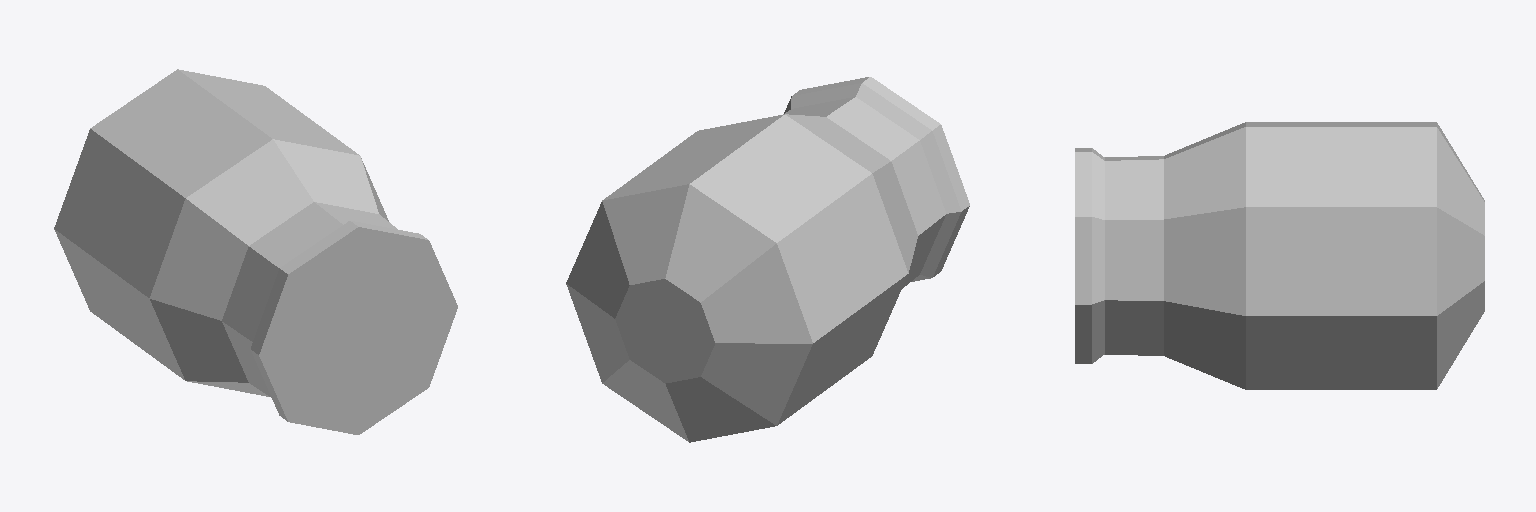
Rendered from m_bottle.obj.
The picture shows the model from 3 angles: view 1: azimuth 30°, elevation 25°; view 2: azimuth 150°, elevation 25°; view 3: azimuth 270°, elevation 25°; orthographic projection.
Parts seen in each view (by area): view 1: Cube; view 2: Cube; view 3: Cube.
Part boxes in pixels (x1,y1,x2,y2): Cube: (54, 69, 457, 434); Cube: (566, 77, 969, 442); Cube: (1075, 122, 1484, 389).
Size of the model in its own units: 0.3094 by 0.3094 by 0.4456.